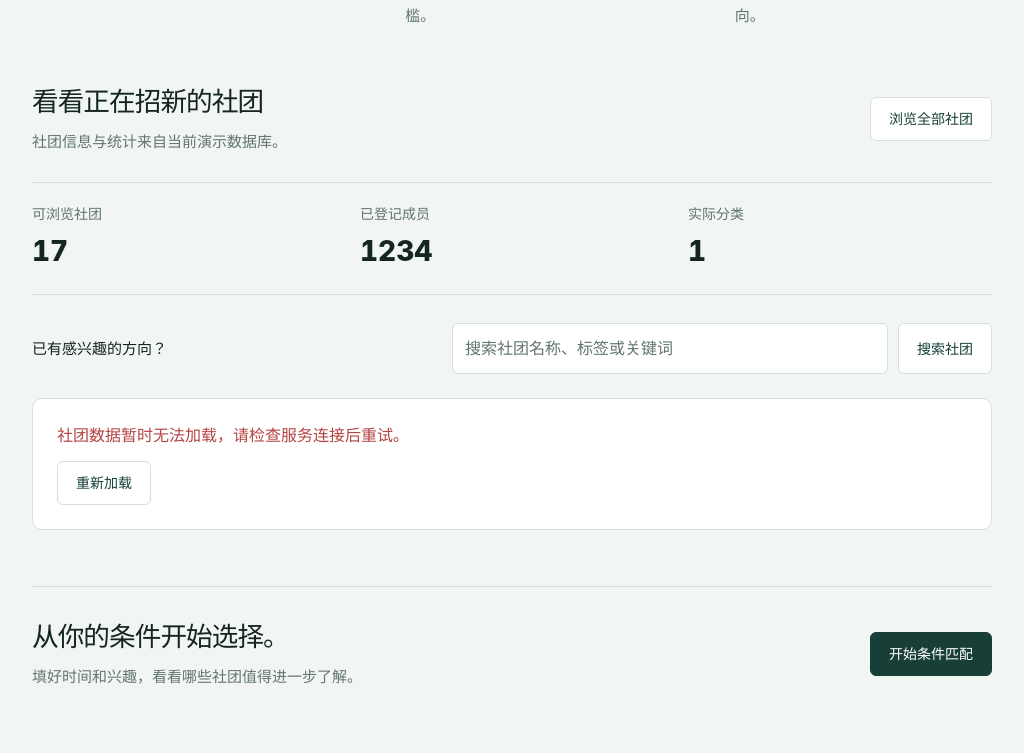
Test: Index page › offers a retry when loading the club list fails
(page scrolled)
Check: the message "社团数据暂时无法加载，请检查服务连接后重试。 重新加载" is shown, box [32,398,992,530]
Click the button "重新加载". click: (104, 483)
box: [57,461,151,505]
(page scrolled)
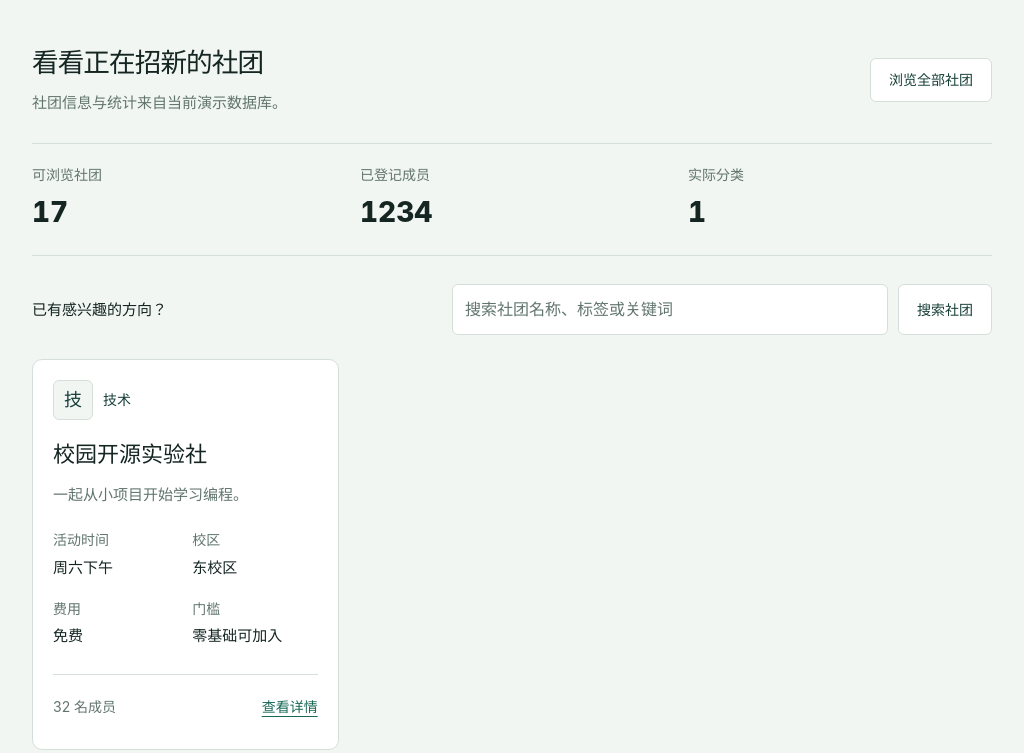
Check: the element that starts with "看看正在招新的社团" shows "校园开源实验社", box [53,441,207,467]
